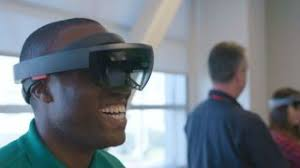hololens: (11, 43, 158, 95)
